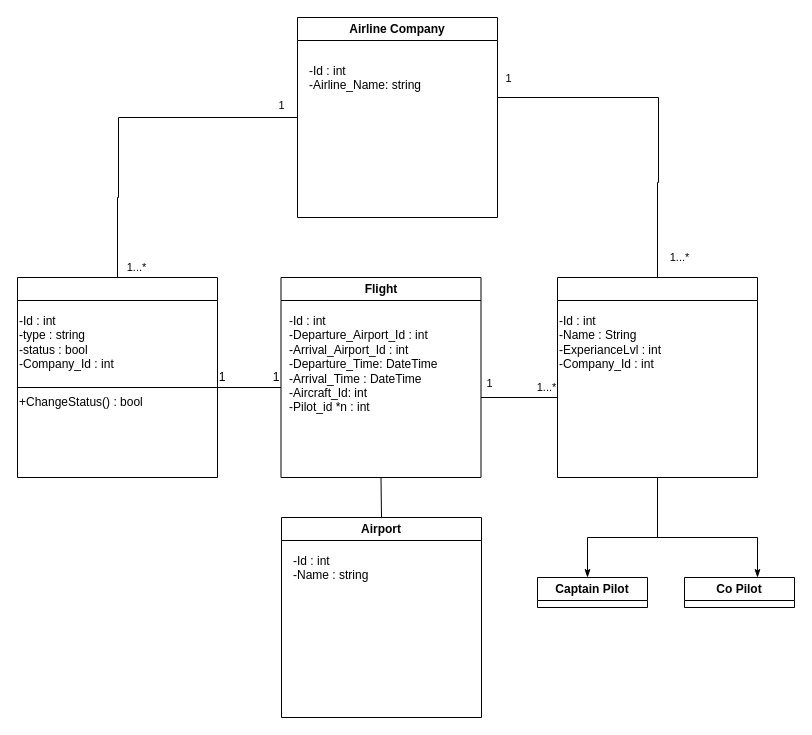
Image size: 812x735. Some labels were removed from this diagram. The box of each missing label's shape, as (x1, y1, x2, y2) in pixels:
Air Craft: (16, 276, 218, 478)
Pilot: (556, 276, 758, 478)
